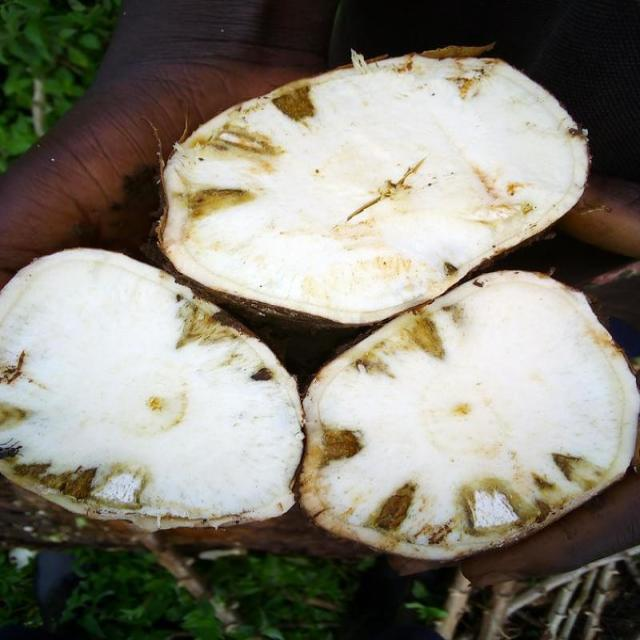cassava leaf: (152, 41, 591, 328), (297, 267, 638, 564), (0, 245, 305, 532)
